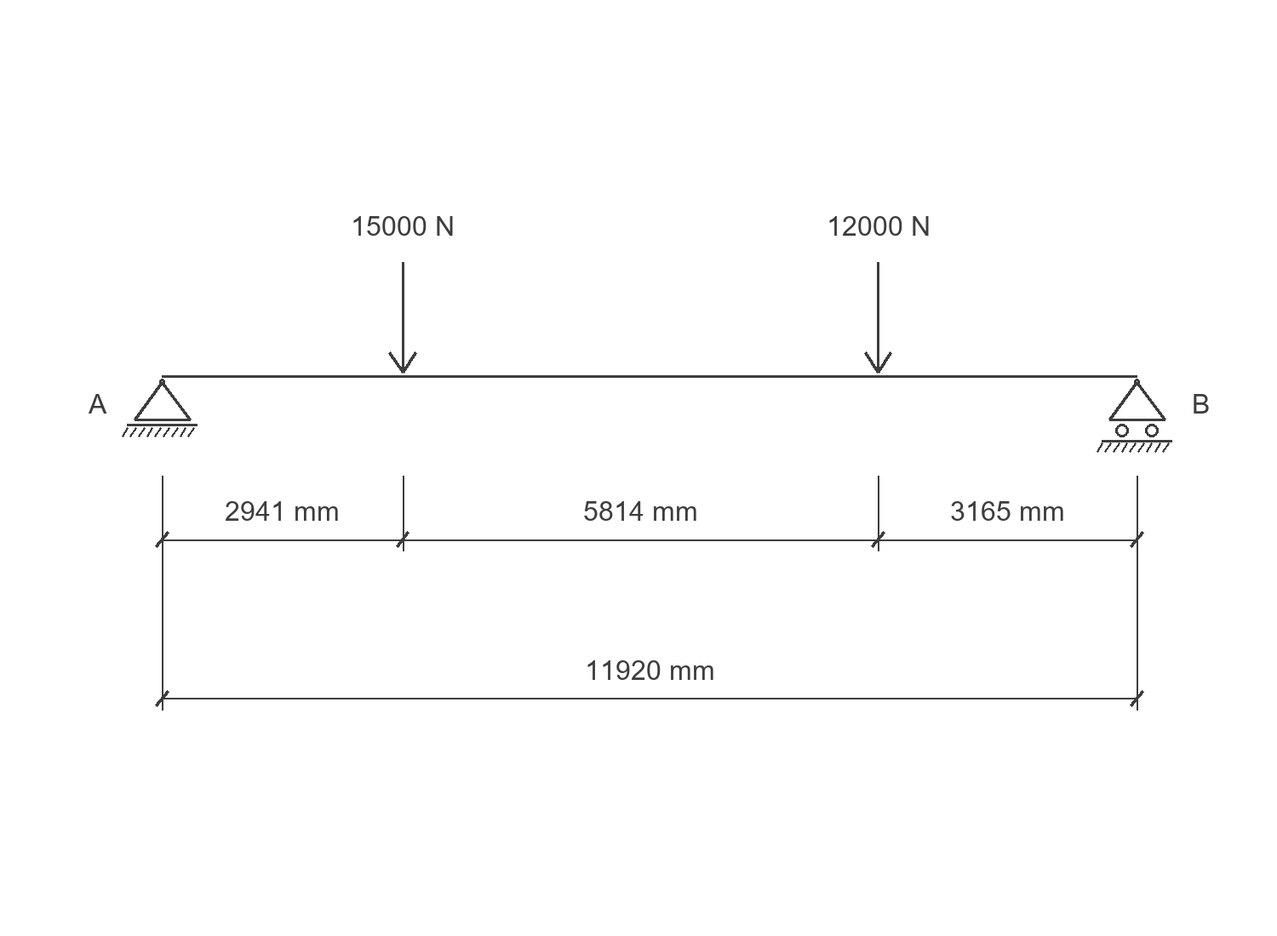pin_support: (122, 379, 198, 437)
point_load: (388, 262, 417, 374), (864, 262, 892, 374)
roller_support: (1097, 379, 1172, 453)
